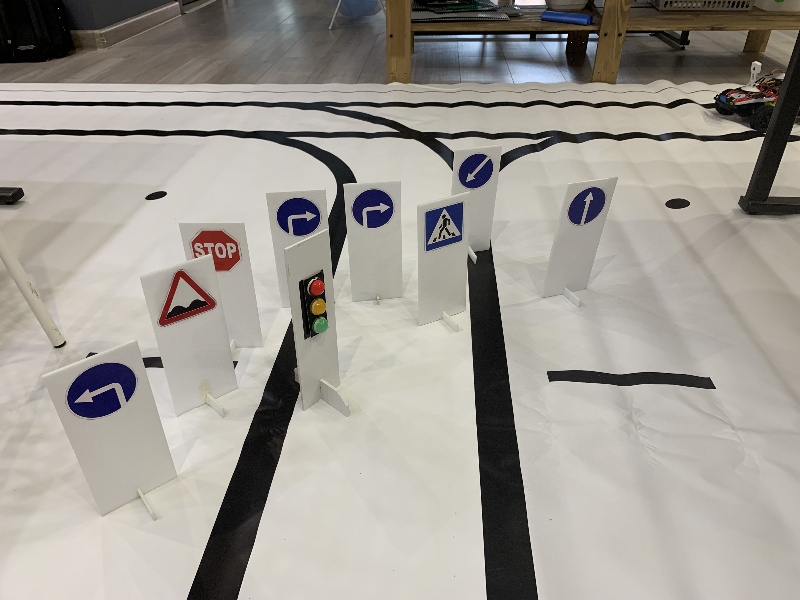Left: (69, 363, 137, 418)
Nerov: (159, 271, 215, 328)
Right: (276, 195, 321, 235), (352, 189, 393, 228)
Stop: (190, 228, 241, 274)
forw: (569, 188, 606, 227)
pesh: (424, 204, 463, 249)
prep: (458, 151, 493, 191)
